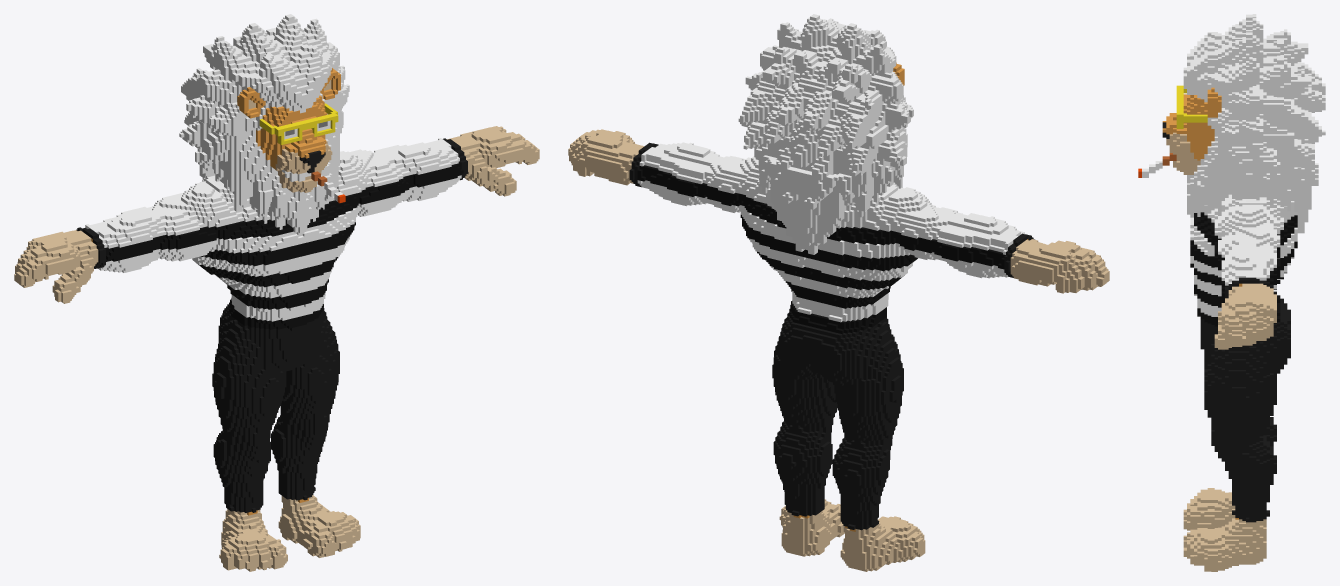
File: 794-dOIUc8Ua.fbx
3 views of the same model, side by side, from view 1: azimuth 30°, elevation 25°; view 2: azimuth 150°, elevation 25°; view 3: azimuth 270°, elevation 25° (orthographic). The views are drawn at different scales.
Visible parts, largest first — view 1: cigarette; view 2: cigarette; view 3: cigarette.
Boxes of the visible parts, x1,y1,x2,y2 form: cigarette: (14, 14, 539, 571); cigarette: (568, 14, 1109, 571); cigarette: (1138, 14, 1325, 571).
Bounding box in the file's own units: 17.2 × 16.5 × 5.4.
Materials: 5 (5 with a texture image).
